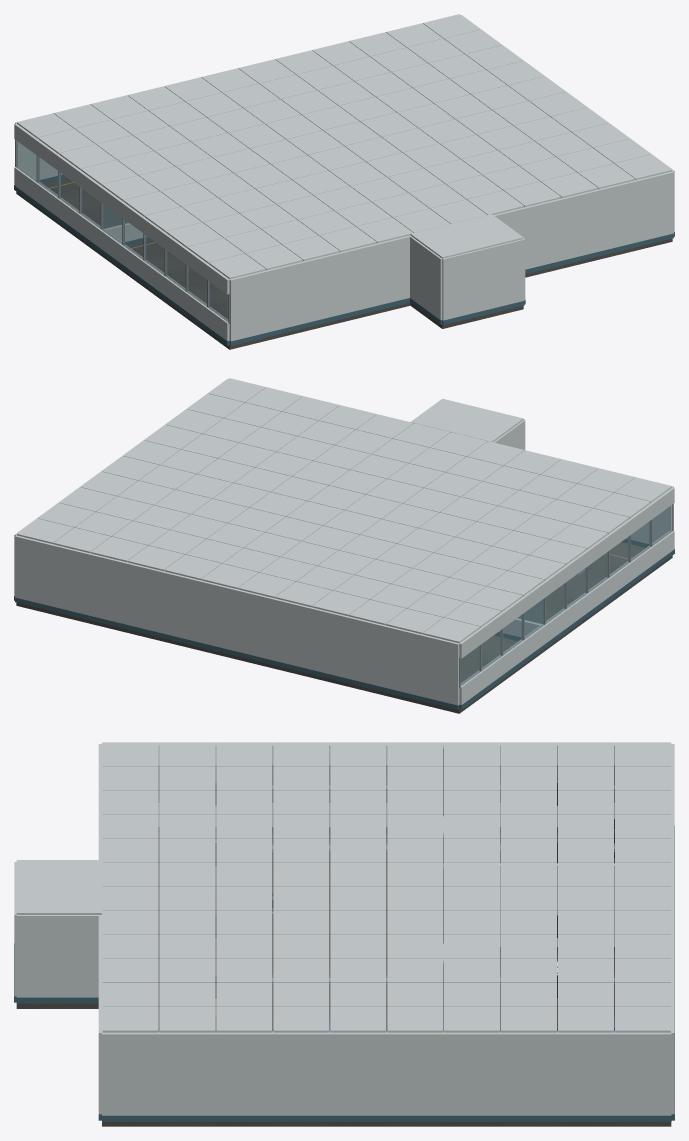
Rendered from security_lab.glb.
3 views of the same model, one above another, from view 1: azimuth 30°, elevation 25°; view 2: azimuth 150°, elevation 25°; view 3: azimuth 270°, elevation 25° (orthographic). The views are drawn at different scales.
Visible parts, largest first — view 1: ENV_Ceiling, ENV_Wall_South_Left, ENV_Wall_South_Right, ENV_Floor, ENV_Window_West, ENV_Wall_Entry_Back, ENV_Wall_West_Lower, ENV_Wall_West_Upper, ENV_Ceiling_Entry, ENV_Wall_Entry_-2.2, ENV_Window_Frames, ENV_Skirting_West_Lower (+3 smaller); view 2: ENV_Ceiling, ENV_Wall_North, ENV_Floor, ENV_Window_West, ENV_Wall_West_Lower, ENV_Wall_West_Upper, ENV_Ceiling_Entry, ENV_Skirting_North, ENV_Window_Frames, ENV_Skirting_West_Lower, ENV_Wall_South_Left, ENV_Wall_Entry_-2.2; view 3: ENV_Ceiling, ENV_Wall_East, ENV_Wall_Entry_2.2, ENV_Ceiling_Entry, ENV_Floor, ENV_Skirting_East, ENV_Wall_North, ENV_Wall_South_Right, ENV_Wall_South_Left, ENV_Skirting_Entry_2.2.
Boxes of the visible parts, box(x1,y1,x2,y2) form: ENV_Ceiling: box(17, 14, 671, 279); ENV_Wall_South_Left: box(229, 235, 409, 341); ENV_Wall_South_Right: box(493, 171, 673, 269); ENV_Floor: box(16, 178, 672, 349); ENV_Window_West: box(18, 142, 227, 320); ENV_Wall_Entry_Back: box(442, 239, 524, 320); ENV_Wall_West_Lower: box(14, 167, 229, 340); ENV_Wall_West_Upper: box(14, 123, 229, 294); ENV_Ceiling_Entry: box(410, 214, 523, 258); ENV_Wall_Entry_-2.2: box(409, 235, 442, 319); ENV_Window_Frames: box(15, 140, 229, 323); ENV_Skirting_West_Lower: box(14, 185, 229, 345); ENV_Ceiling: box(17, 378, 671, 643); ENV_Wall_North: box(15, 535, 459, 705); ENV_Floor: box(16, 542, 672, 713); ENV_Window_West: box(461, 506, 670, 684); ENV_Wall_West_Lower: box(459, 531, 674, 704); ENV_Wall_West_Upper: box(459, 487, 674, 658); ENV_Ceiling_Entry: box(410, 398, 523, 442); ENV_Skirting_North: box(15, 597, 459, 709); ENV_Window_Frames: box(459, 504, 673, 687); ENV_Skirting_West_Lower: box(459, 549, 674, 709); ENV_Wall_South_Left: box(626, 486, 673, 543); ENV_Wall_Entry_-2.2: box(493, 420, 525, 450); ENV_Ceiling: box(102, 742, 670, 1032); ENV_Wall_East: box(102, 1031, 671, 1115); ENV_Wall_Entry_2.2: box(16, 915, 101, 997); ENV_Ceiling_Entry: box(16, 860, 101, 914); ENV_Floor: box(102, 833, 671, 1126); ENV_Skirting_East: box(102, 1114, 671, 1121); ENV_Wall_North: box(668, 744, 674, 1114); ENV_Wall_South_Right: box(98, 898, 104, 1114); ENV_Wall_South_Left: box(98, 744, 102, 878); ENV_Skirting_Entry_2.2: box(16, 997, 98, 1003).
Size of what is drawn, in the model's own units: 24.25 by 3.72 by 23.22.
Materials: 12 (2 with a texture image).
